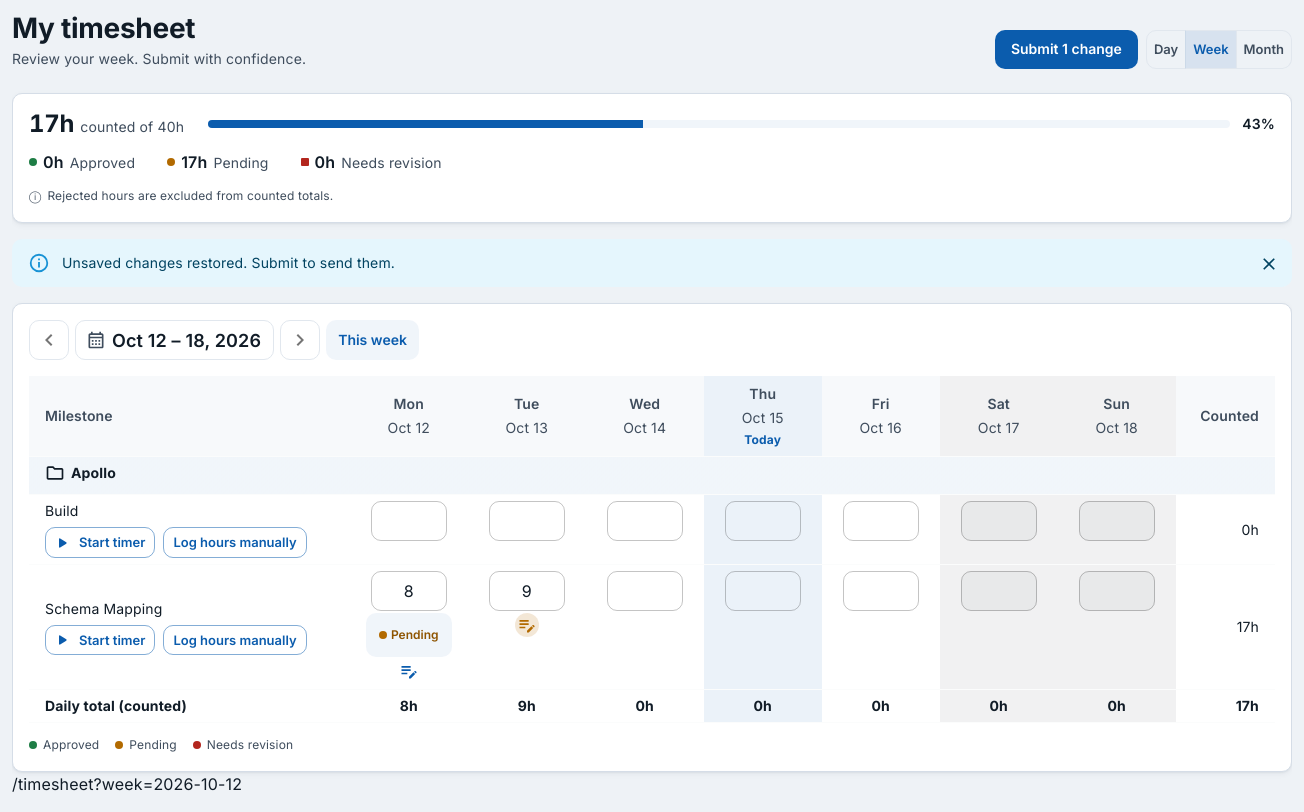
Test: unsaved typing is kept in this tab › the notice closes with its Close button and the typing stays
Step 1. Click the button named "Close" → point(1269, 264), box [1254,249,1284,279]
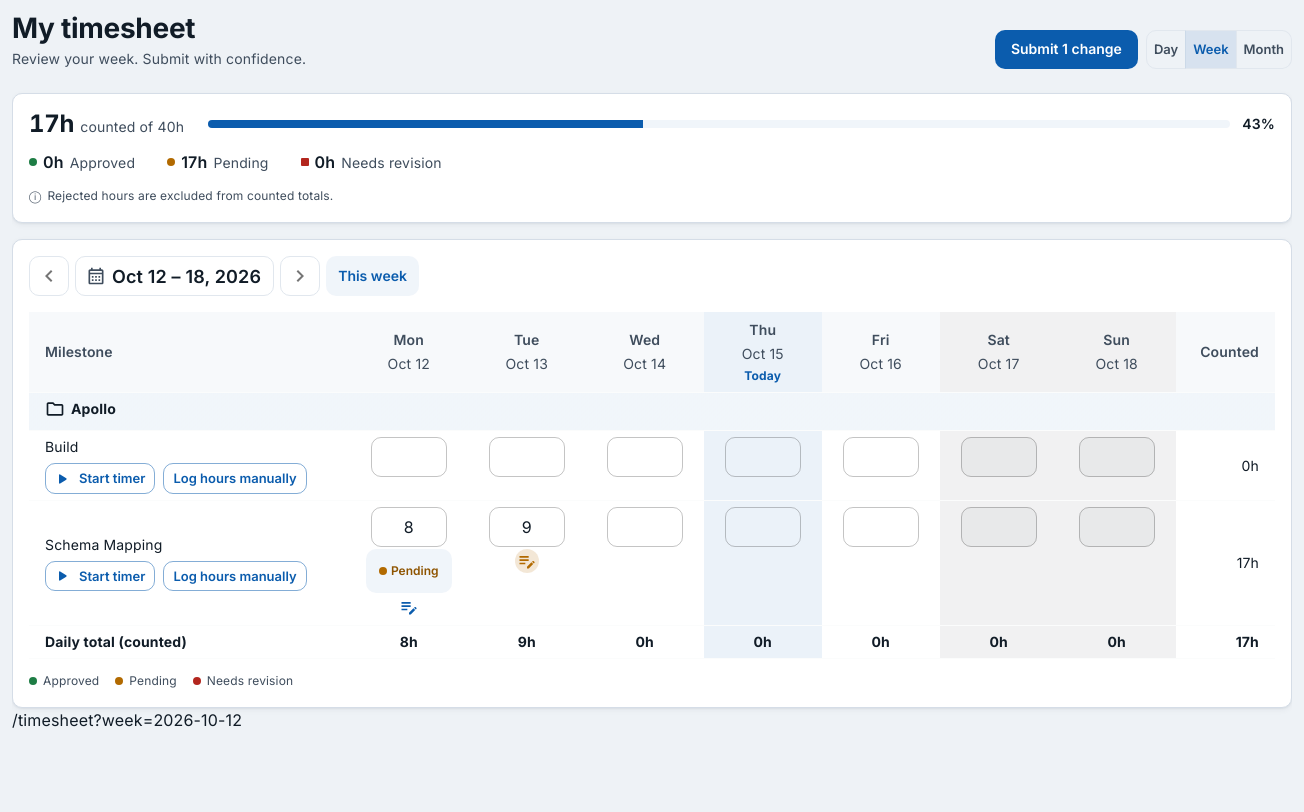
Expected: the field named "Schema Mapping, Tue Oct 13" holds "9", [489,507,565,547]
Now the text "Unsaved changes restored. Submit to send them." is gone
